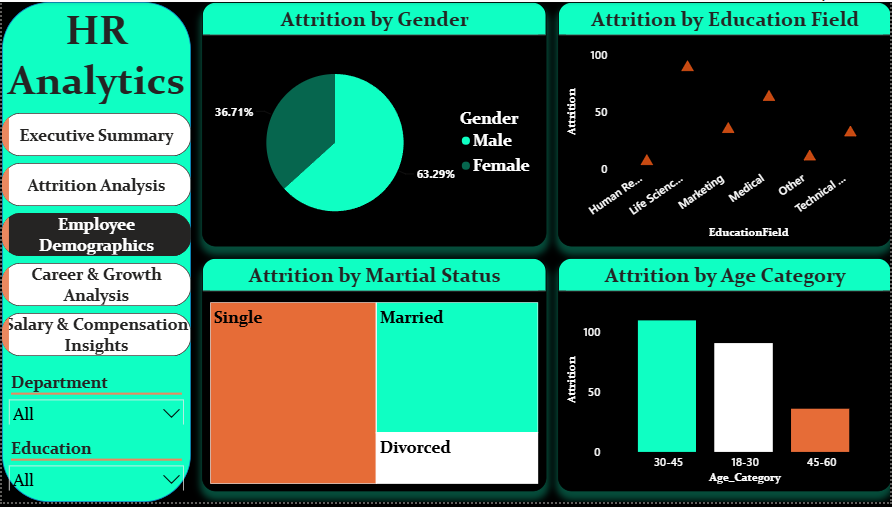

What the dashboard file says about the page in this screenshot:
{"tool":"powerbi","page":{"name":"Employee Demographics","canvas":[1280,720],"ordinal":2},"visuals":[{"type":"group","id":"g1","title":"Group 1","box":[0,0,272,720],"z":0},{"type":"shape","box":[0,0,272,720],"z":0,"group":"g1"},{"type":"textbox","box":[0,0,272,160],"z":1000,"group":"g1"},{"type":"pieChart","title":"Attrition by Gender","fields":{"Category":["HR-Employee-Attrition (1).Gender"],"Y":["HR-Employee-Attrition (1).Attrition count"]},"box":[288,0,496,352],"z":1000},{"type":"pageNavigator","box":[0,160,272,352],"z":2000,"group":"g1"},{"type":"columnChart","title":"Attrition by Age Category","fields":{"Category":["HR-Employee-Attrition (1).Age_Category"],"Y":["HR-Employee-Attrition (1).Attrition count"]},"box":[800,368,480,336],"z":2000},{"type":"scatterChart","title":"Attrition by Education Field","fields":{"X":["HR-Employee-Attrition (1).EducationField"],"Y":["HR-Employee-Attrition (1).Attrition count"]},"box":[800,0,480,352],"z":3000},{"type":"slicer","fields":{"Values":["HR-Employee-Attrition (1).Department"]},"box":[0,528,272,80],"z":3000,"group":"g1"},{"type":"treemap","title":"Attrition by Martial Status","fields":{"Values":["HR-Employee-Attrition (1).Attrition count"],"Group":["HR-Employee-Attrition (1).MaritalStatus"]},"box":[288,368,496,336],"z":4000},{"type":"slicer","fields":{"Values":["HR-Employee-Attrition (1).Education"]},"box":[0,624,272,80],"z":4000,"group":"g1"}]}

Visuals, with their boxes in screenshot pixels (x1, y1, x2, y2), scaled from the page's 1280x720 canvas onto the 892x507 screenshot:
"Group 1" group: region(0, 0, 190, 506)
shape: region(0, 0, 190, 506)
textbox: region(0, 0, 190, 113)
"Attrition by Gender" pieChart: region(201, 0, 546, 248)
pageNavigator: region(0, 113, 190, 361)
"Attrition by Age Category" columnChart: region(558, 259, 891, 496)
"Attrition by Education Field" scatterChart: region(558, 0, 891, 248)
slicer - HR-Employee-Attrition (1).Department: region(0, 372, 190, 428)
"Attrition by Martial Status" treemap: region(201, 259, 546, 496)
slicer - HR-Employee-Attrition (1).Education: region(0, 439, 190, 496)
